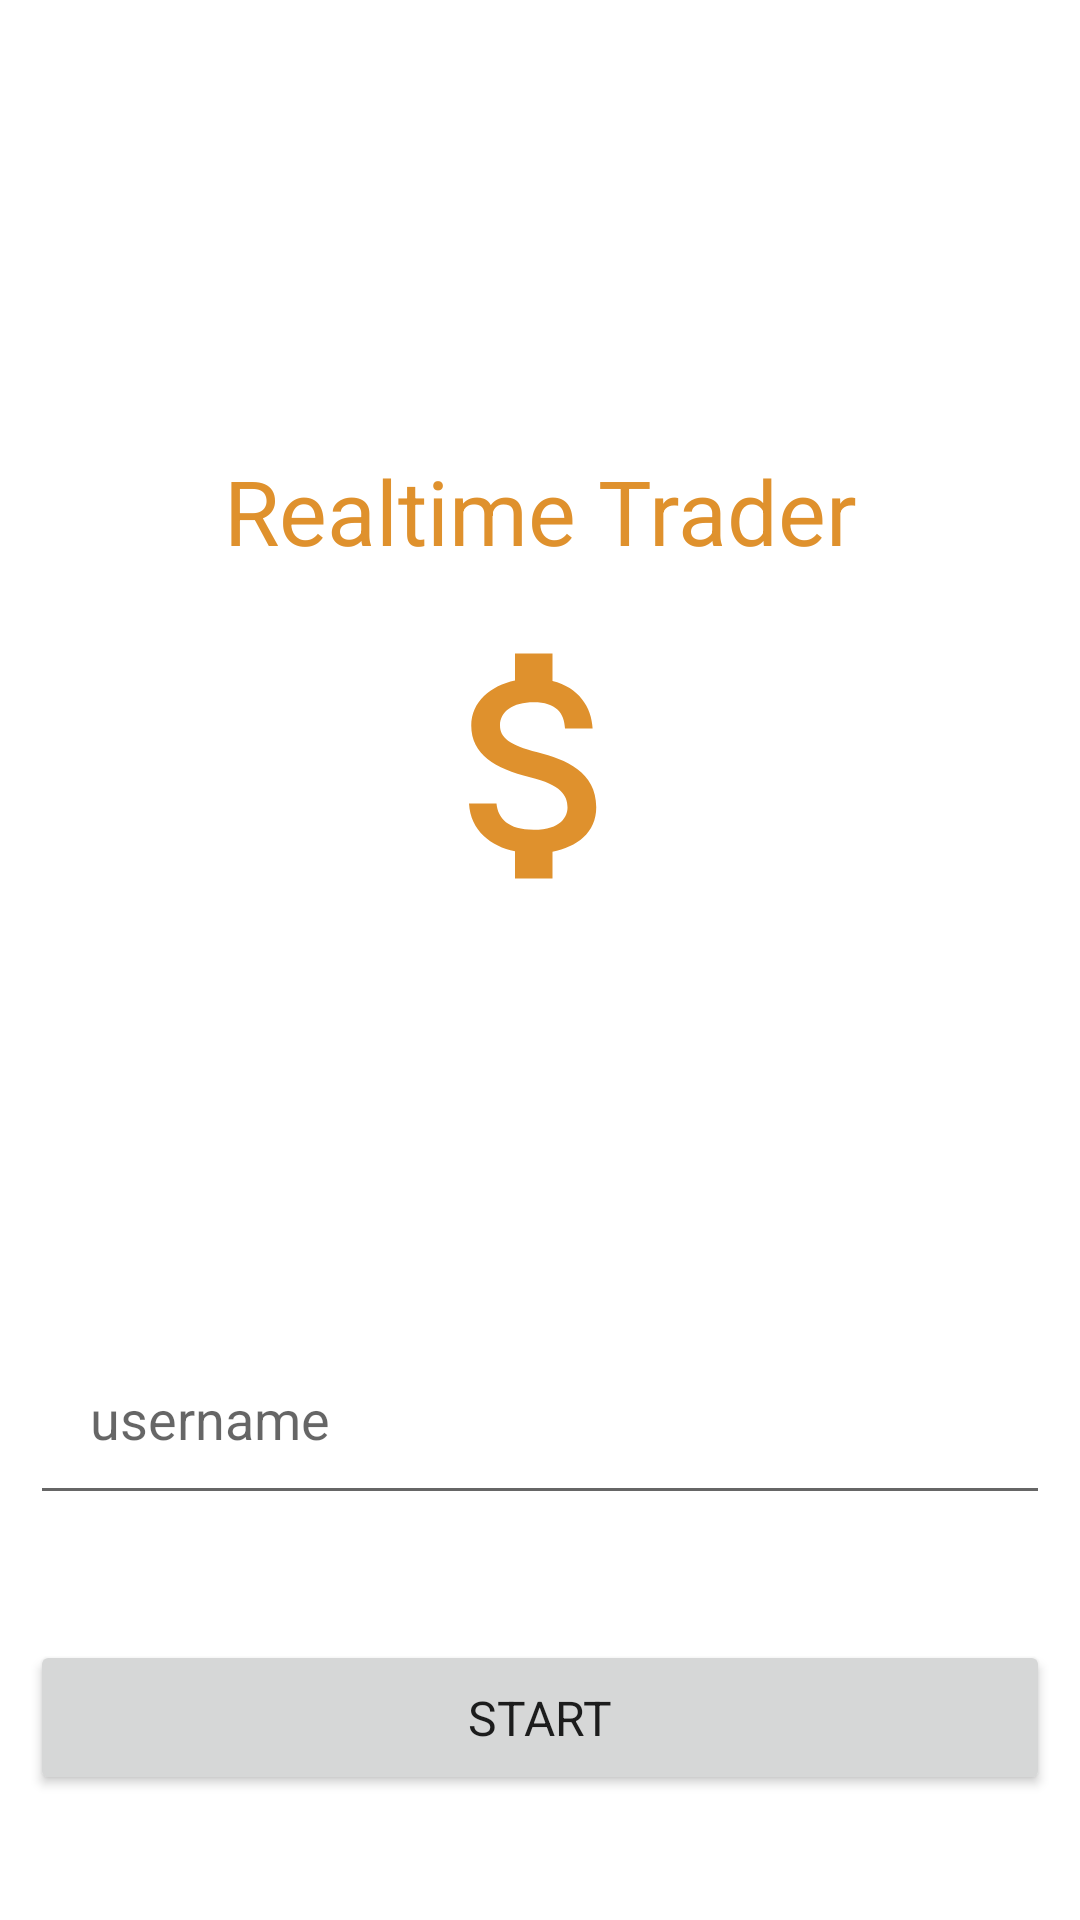

Named icons in this screenshot (1080x1920) and their centers, (x,y):
app icon: (533,766)
